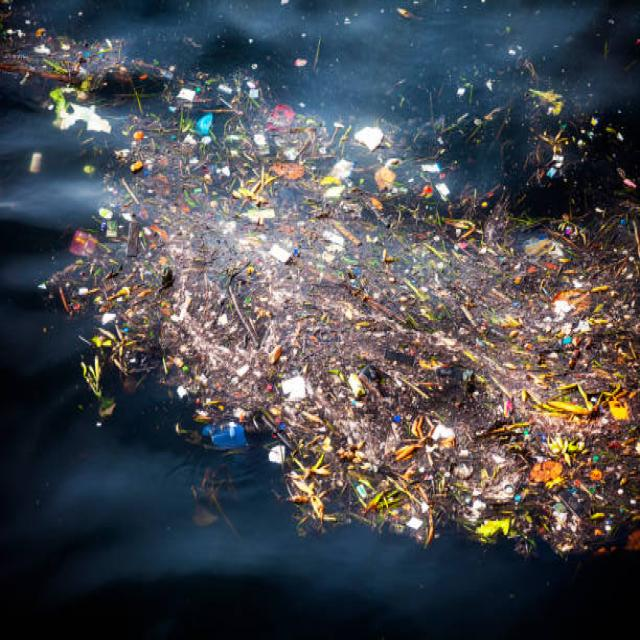garbage: (132, 173, 624, 537)
